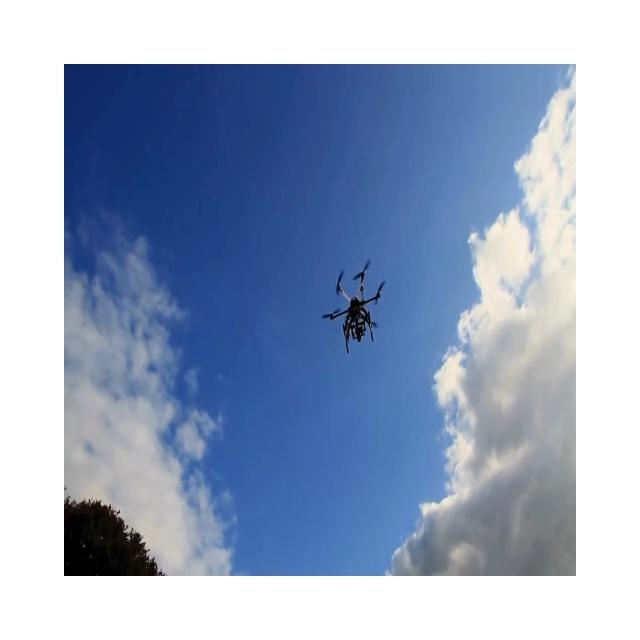drone: (321, 259, 385, 354)
